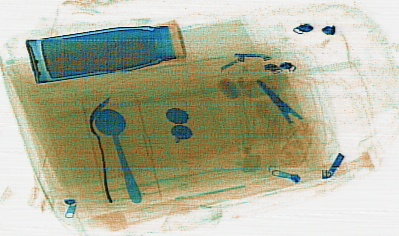scissors: (255, 77, 334, 148)
